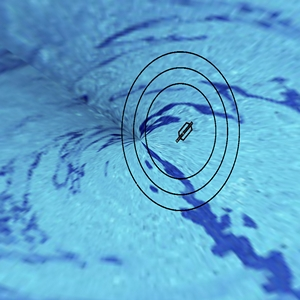circle: (117, 41, 250, 215)
submarine: (168, 112, 198, 153)
